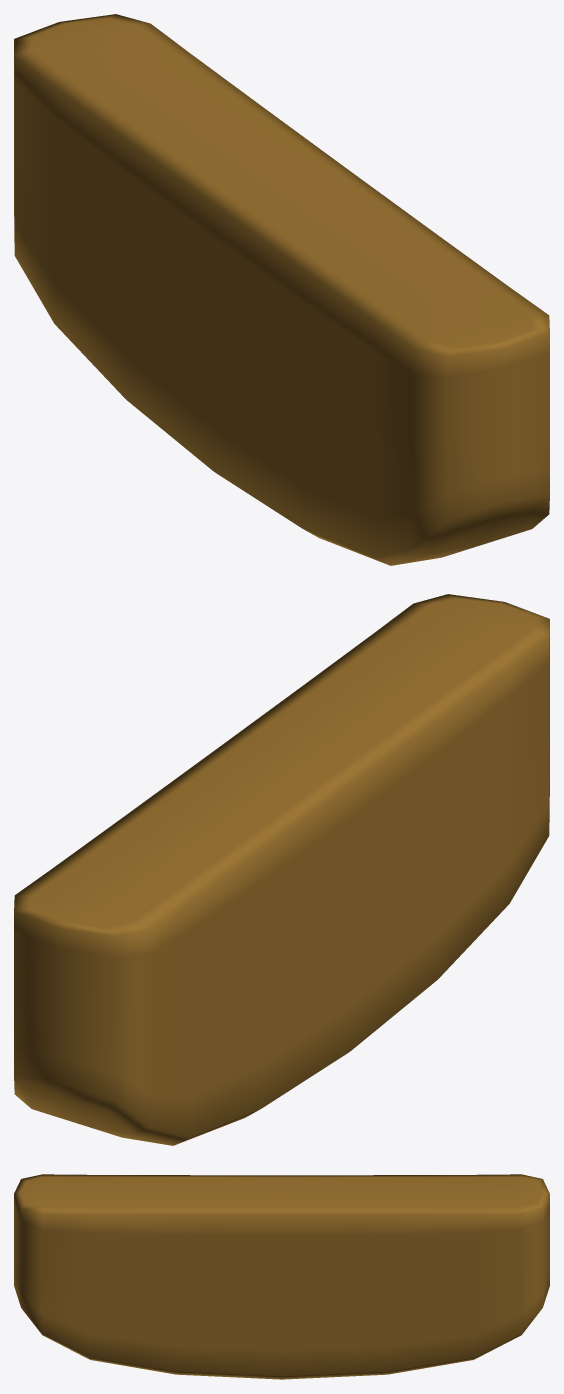
The model's file is upper.fbx.
3 renders of one model, top to bottom at view 1: azimuth 30°, elevation 25°; view 2: azimuth 150°, elevation 25°; view 3: azimuth 270°, elevation 25°, orthographic. The views are drawn at different scales.
Parts seen in each view (by area): view 1: pCube6; view 2: pCube6; view 3: pCube6.
Part boxes in pixels (x1,y1,x2,y2): pCube6: (14,14,549,565); pCube6: (14,594,549,1145); pCube6: (14,1174,549,1379).
Bounding box in the file's own units: 26.78 × 55 × 152.
